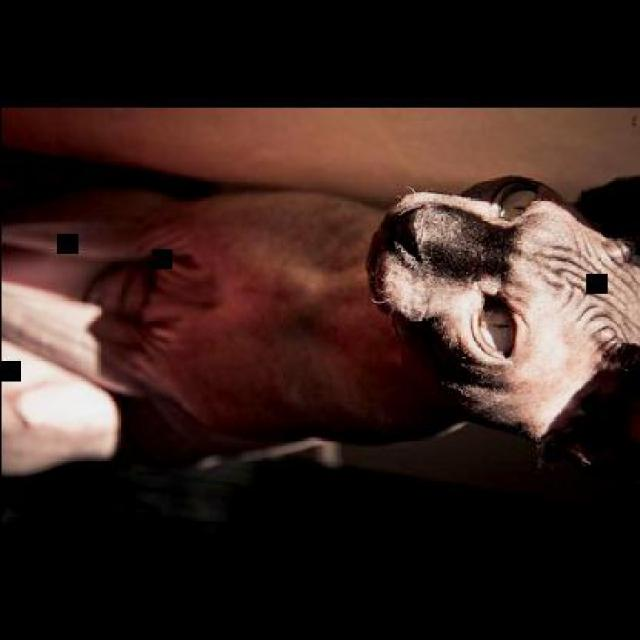unauthorized: (0, 140, 638, 481)
